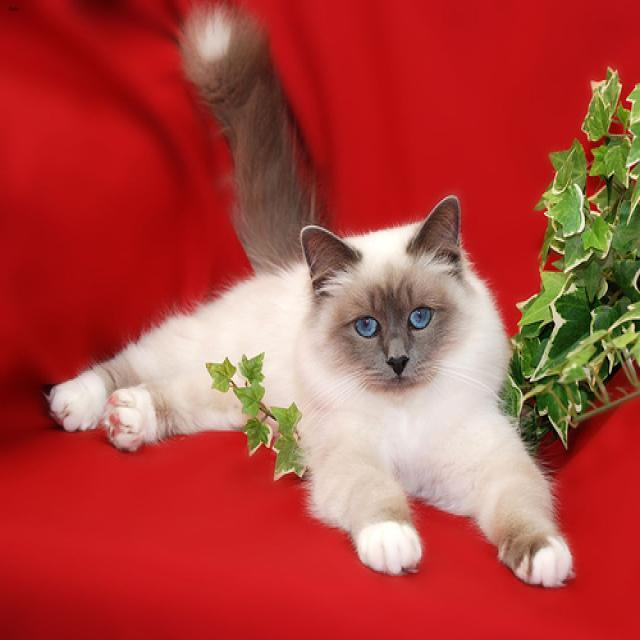Birman: (280, 194, 490, 412)
